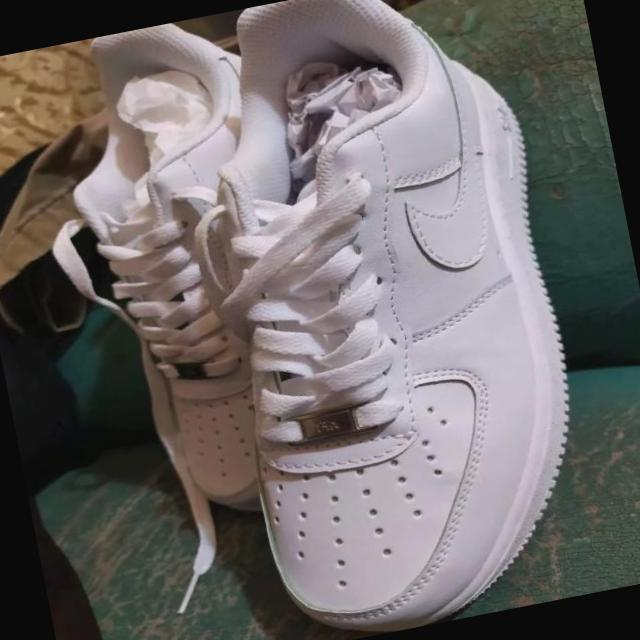nike_fake_airforce: (149, 0, 616, 640), (0, 3, 373, 544)
